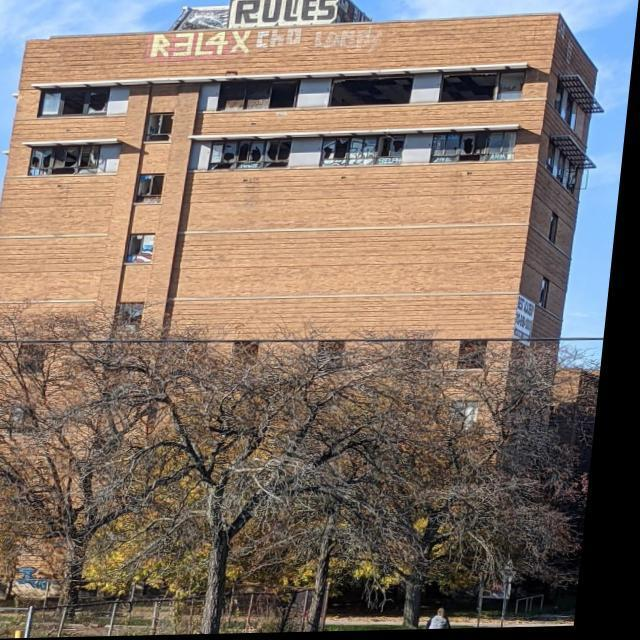-: (144, 32, 254, 62), (226, 0, 342, 27)
